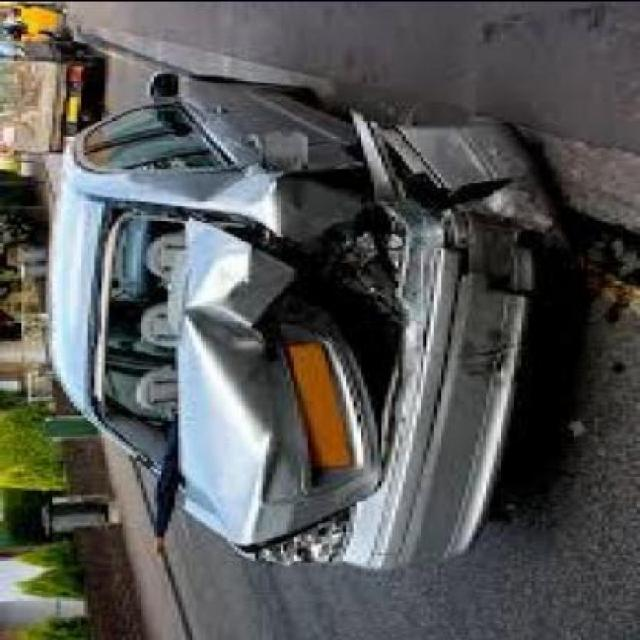damage: (132, 109, 562, 565)
